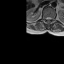CCS_normal: (47, 15, 49, 22)
LFS_normal: (51, 16, 53, 21)
LLS_normal: (49, 15, 51, 21)
RFS_normal: (44, 15, 46, 21)
RLS_normal: (46, 15, 47, 21)
